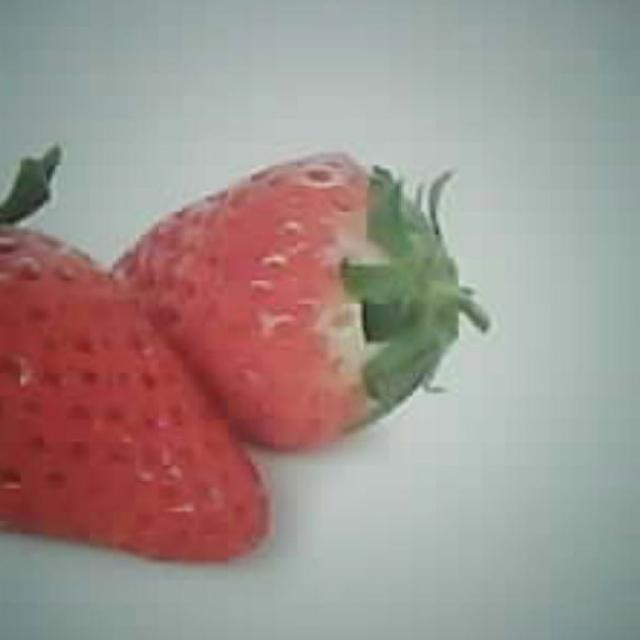Healthy Fruit: (106, 157, 440, 447), (0, 224, 272, 563)
